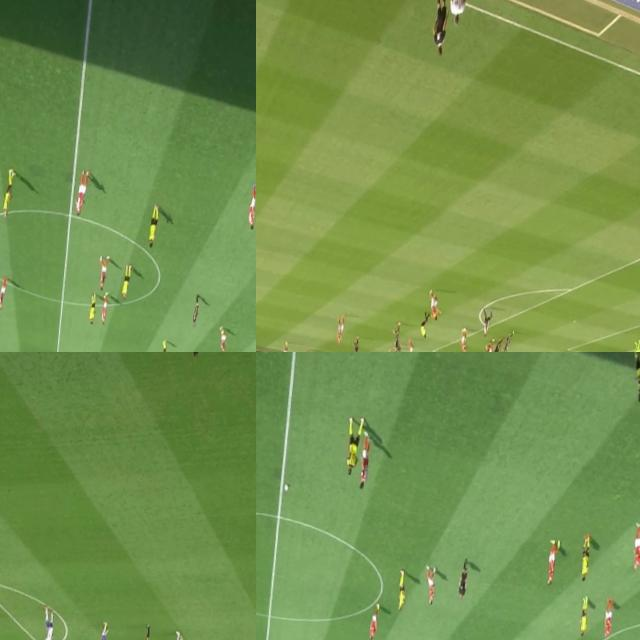ball: (281, 478, 290, 496), (462, 325, 466, 332)
player: (344, 420, 360, 477), (358, 432, 372, 492), (544, 539, 560, 590), (75, 172, 90, 217), (0, 168, 13, 218), (39, 602, 56, 640), (578, 538, 592, 584), (94, 252, 110, 292), (118, 266, 134, 306), (628, 521, 640, 574), (421, 566, 436, 608), (576, 597, 590, 640), (426, 287, 442, 324), (599, 603, 615, 640), (395, 570, 408, 615), (629, 352, 640, 405), (146, 206, 160, 247), (366, 602, 380, 640), (246, 188, 256, 232), (334, 311, 346, 346), (481, 305, 494, 337), (98, 292, 109, 326), (216, 324, 229, 352), (458, 326, 472, 352), (88, 296, 99, 326), (391, 320, 401, 352), (0, 275, 7, 314), (502, 330, 513, 352), (96, 623, 107, 640), (350, 336, 361, 352), (492, 338, 503, 352), (278, 338, 288, 352), (158, 340, 169, 352), (171, 628, 182, 640), (406, 338, 414, 352), (631, 340, 640, 352), (485, 342, 492, 352), (482, 344, 489, 352), (387, 346, 396, 352)
